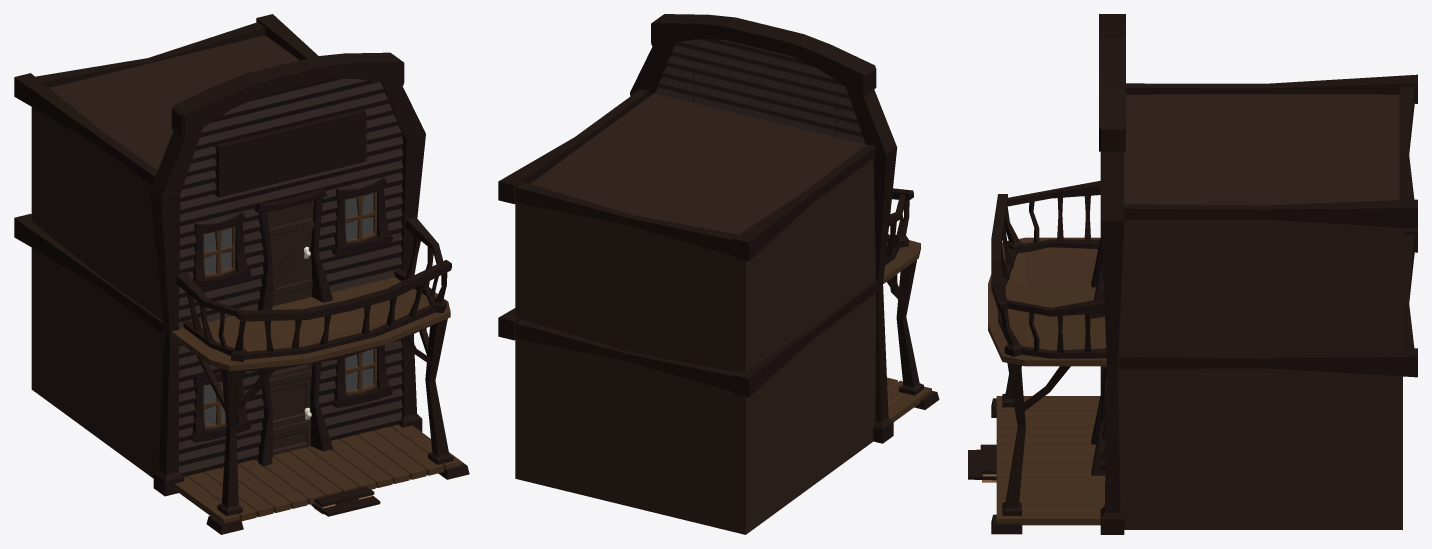
Rendered from Building05.fbx.
3 views of the same model, side by side, from view 1: azimuth 30°, elevation 25°; view 2: azimuth 150°, elevation 25°; view 3: azimuth 270°, elevation 25° (orthographic). The views are drawn at different scales.
Visible parts, largest first — view 1: Cube.055; view 2: Cube.055; view 3: Cube.055.
Boxes of the visible parts, left/top/right/bottom form: Cube.055: left=14, top=14, right=469, bottom=534; Cube.055: left=498, top=14, right=939, bottom=534; Cube.055: left=968, top=14, right=1417, bottom=534.
Size of the model in its own units: 534 by 757 by 743.
